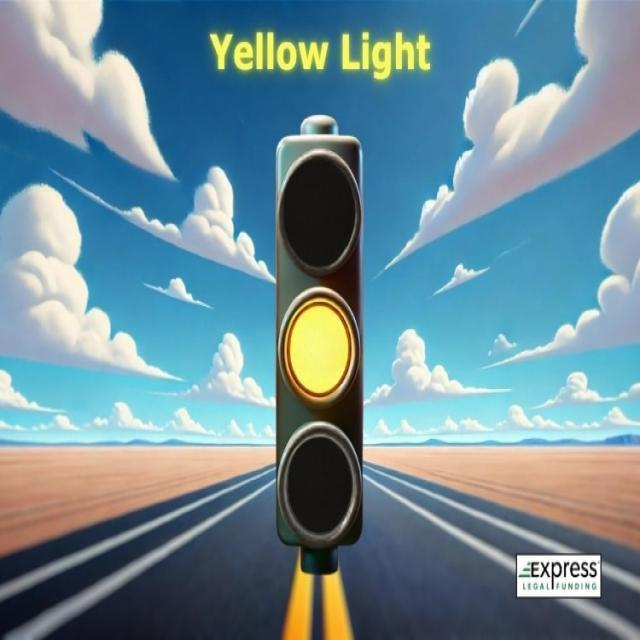yellow_light: (277, 114, 361, 549)
